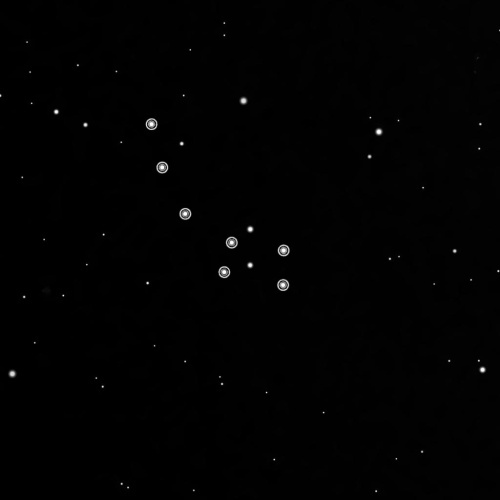ursa_minor: (140, 114, 301, 299)
